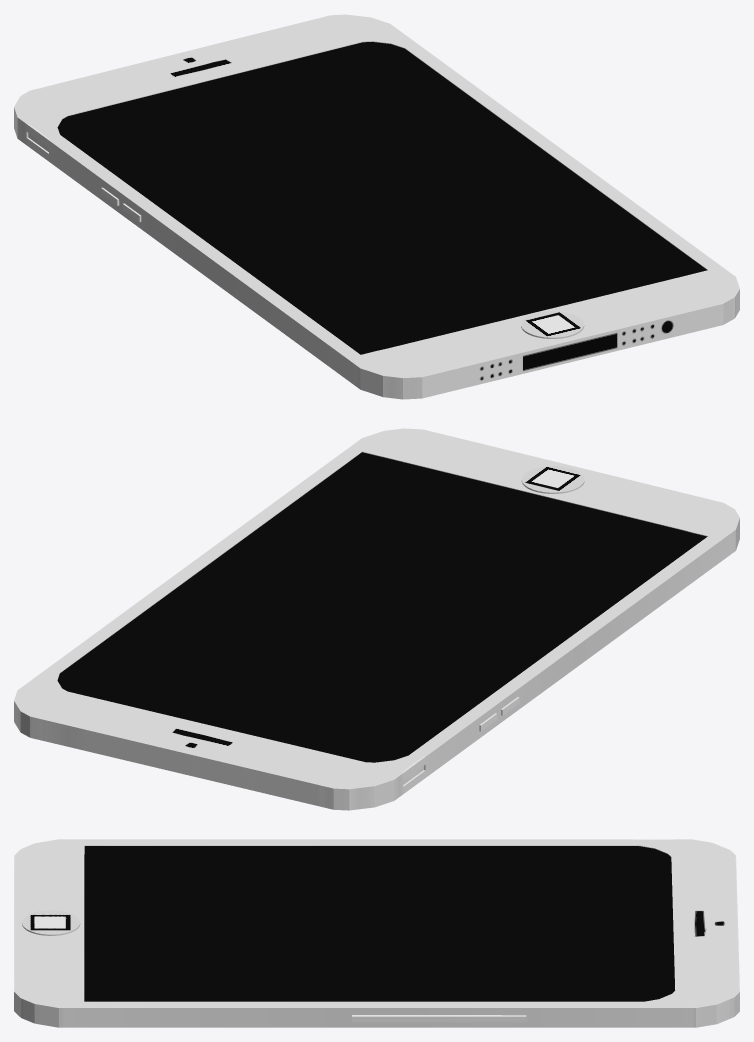
File: iPhone4.fbx
3 views of the same model, one above another, from view 1: azimuth 30°, elevation 25°; view 2: azimuth 150°, elevation 25°; view 3: azimuth 270°, elevation 25° (orthographic). The views are drawn at different scales.
Visible parts, largest first — view 1: 柱体; view 2: 柱体; view 3: 柱体.
Boxes of the visible parts, x1=… form: 柱体: x1=14, y1=14, x2=739, y2=399; 柱体: x1=14, y1=428, x2=739, y2=810; 柱体: x1=14, y1=839, x2=739, y2=1027.
Size of the model in its own units: 404 by 23.11 by 724.
Materials: 1 (1 with a texture image).
